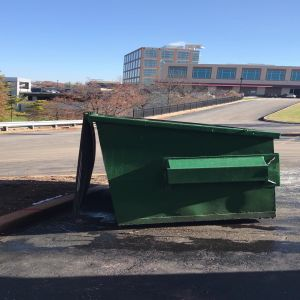Dumpster: (66, 111, 288, 228)
